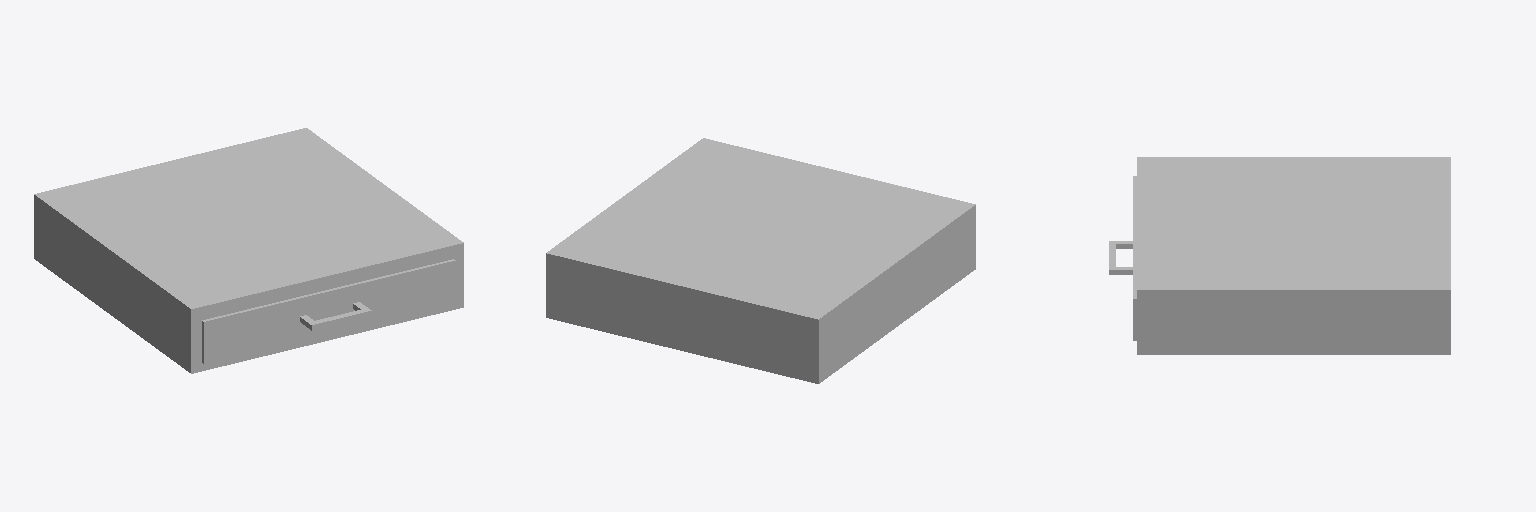
File: sideTableShelf_6.obj
3 views of the same model, side by side, from view 1: azimuth 30°, elevation 25°; view 2: azimuth 150°, elevation 25°; view 3: azimuth 270°, elevation 25° (orthographic).
Bounding box in the file's own units: 7.37 × 1.67 × 8.03.